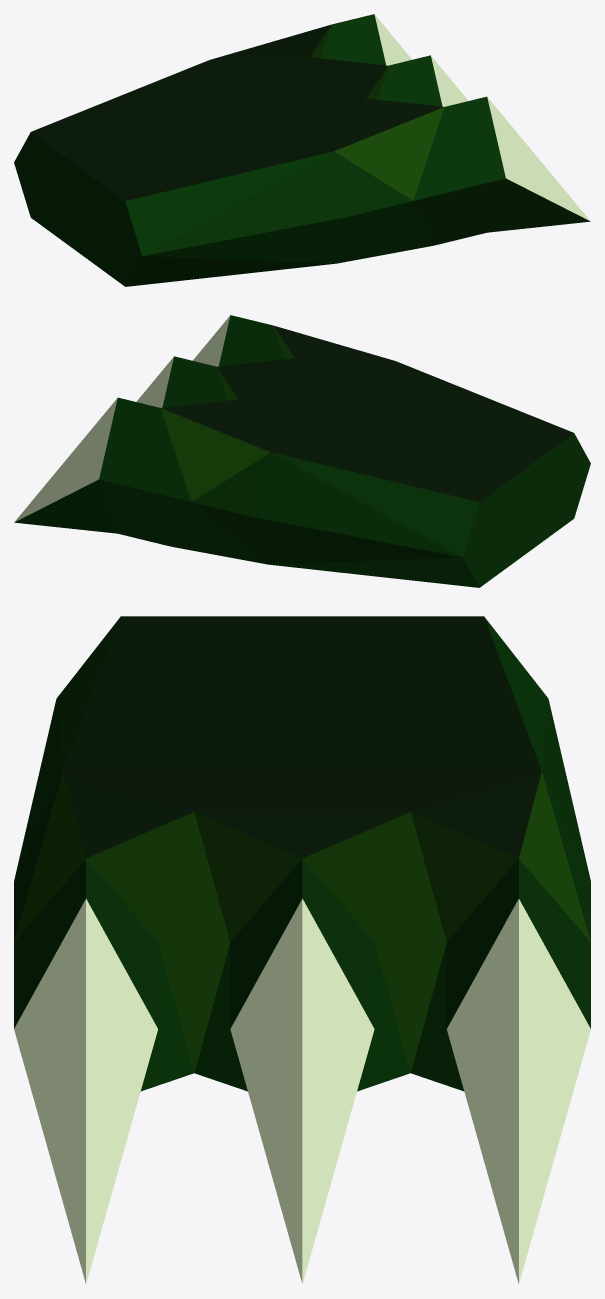
The model's file is goblin_weapon.glb.
3 views of the same model, one above another, from view 1: azimuth 30°, elevation 25°; view 2: azimuth 150°, elevation 25°; view 3: azimuth 270°, elevation 25° (orthographic). The views are drawn at different scales.
Visible parts, largest first — view 1: goblin_weapon; view 2: goblin_weapon; view 3: goblin_weapon.
Boxes of the visible parts, <box> form: goblin_weapon: <box>14,14,590,286</box>; goblin_weapon: <box>14,315,590,587</box>; goblin_weapon: <box>14,616,590,1284</box>.
Bounding box in the file's own units: 1.27 × 0.3999 × 0.724.
Materials: 1 (1 with a texture image).
